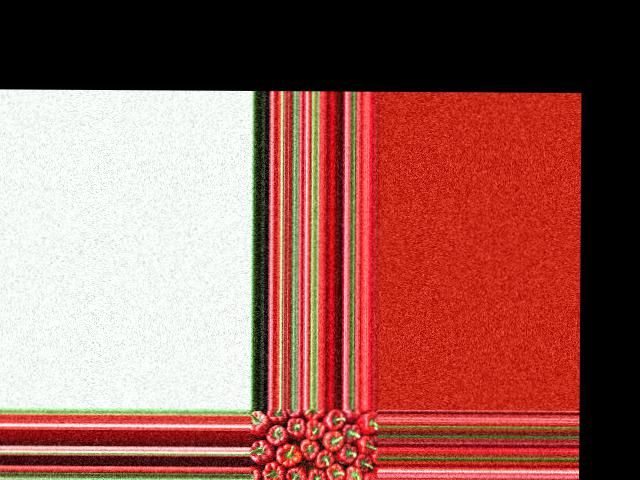bell_pepper: (357, 411, 377, 431)
